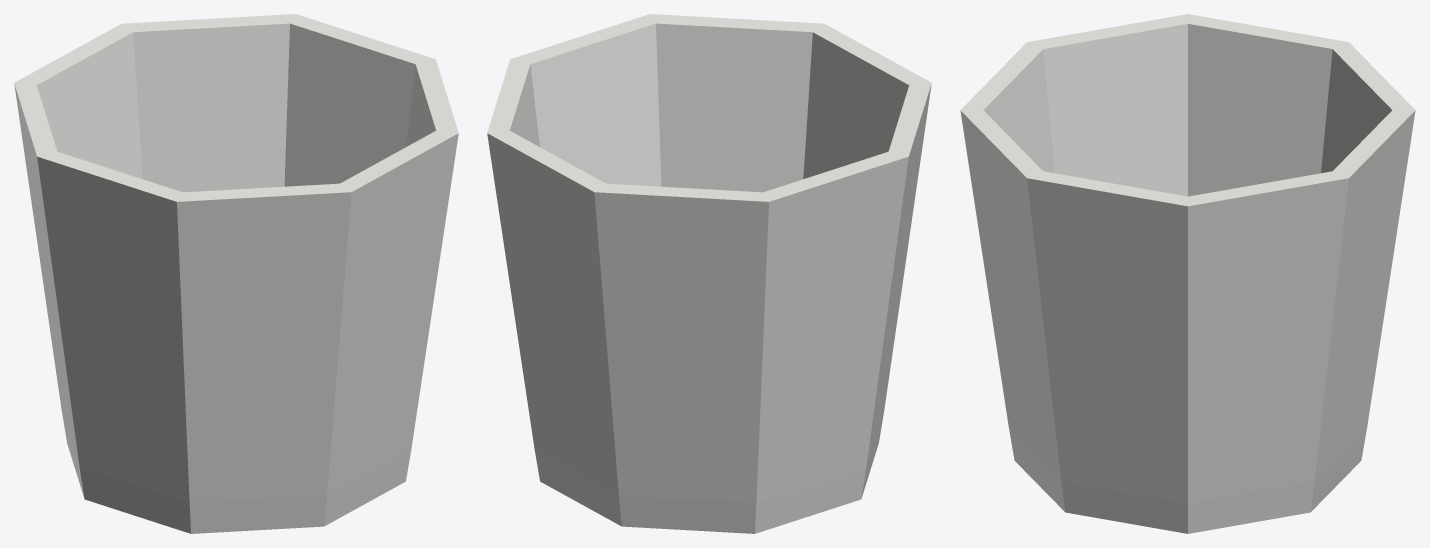
File: Cup1.fbx
3 renders of one model, left to right at view 1: azimuth 30°, elevation 25°; view 2: azimuth 150°, elevation 25°; view 3: azimuth 270°, elevation 25°, orthographic.
Visible parts, largest first — view 1: pCylinder109; view 2: pCylinder109; view 3: pCylinder109.
Boxes of the visible parts, x1,y1,x2,y2 form: pCylinder109: [14, 14, 458, 533]; pCylinder109: [487, 14, 931, 533]; pCylinder109: [960, 14, 1415, 533].
Size of the model in its own units: 13.63 by 11.58 by 13.63.
